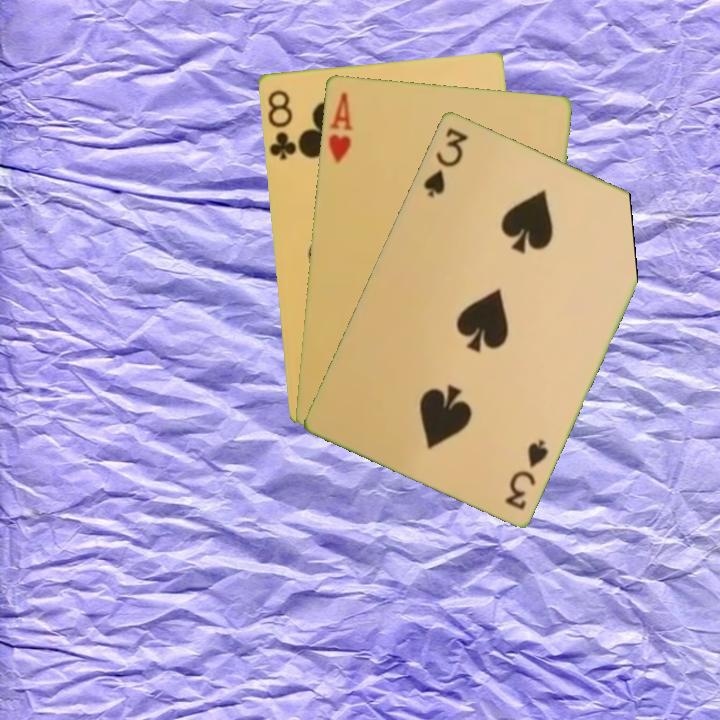3s: (419, 123, 471, 200), (500, 435, 551, 513)
8c: (263, 86, 301, 162)
Ah: (324, 88, 355, 166)
